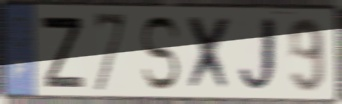7: (93, 10, 130, 94)
9: (286, 15, 326, 95)
J: (236, 13, 281, 96)
S: (138, 14, 182, 93)
X: (185, 13, 233, 95)
Z: (38, 14, 86, 91)
